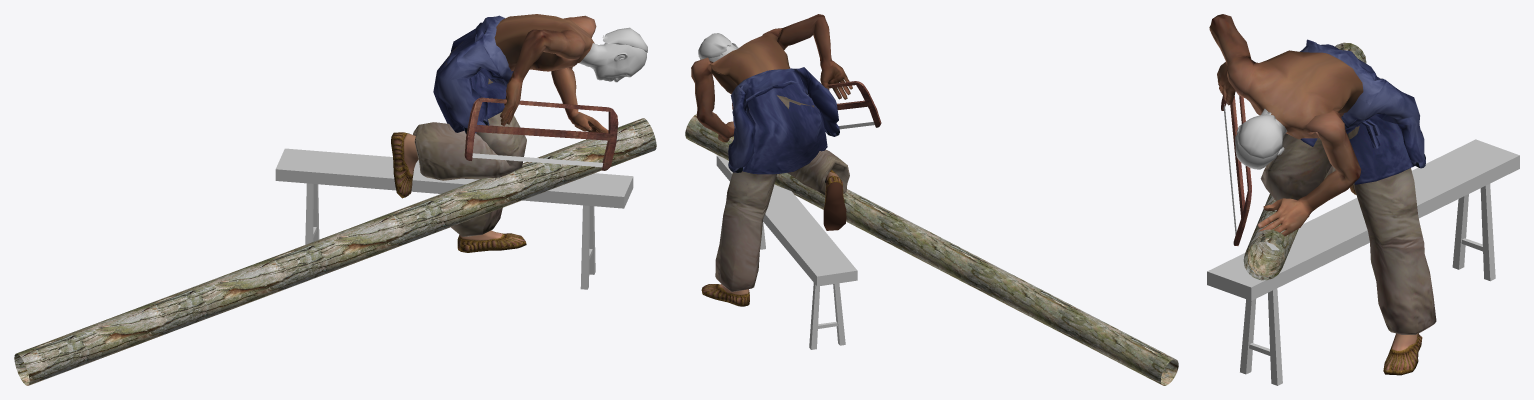
Rendered from man01.FBX.
The picture shows the model from 3 angles, left to right: view 1: azimuth 30°, elevation 25°; view 2: azimuth 150°, elevation 25°; view 3: azimuth 270°, elevation 25°; orthographic projection. The views are drawn at different scales.
Visible parts, largest first — view 1: 背米男01; view 2: 背米男01; view 3: 背米男01.
Part boxes in pixels (x1,y1,x2,y2): 背米男01: (14, 14, 656, 385); 背米男01: (685, 14, 1178, 385); 背米男01: (1207, 14, 1519, 385).
Size of the model in its own units: 2833 by 1270 by 1105.
